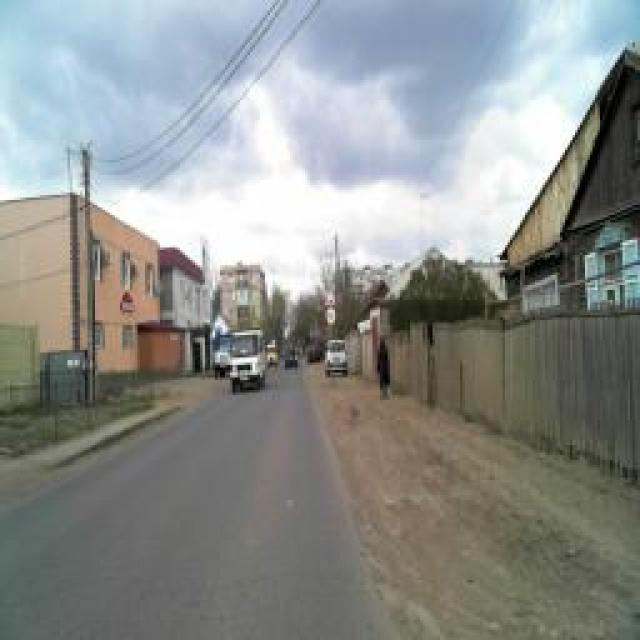sign: (326, 305, 336, 325)
